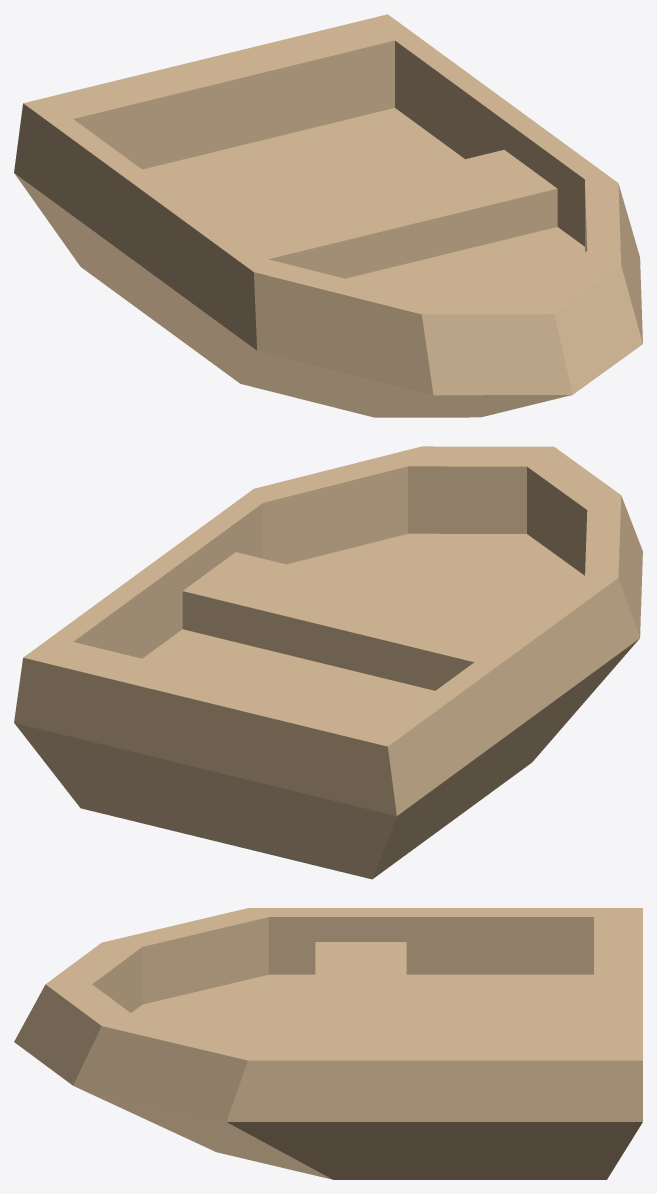
File: boat_watercraft_pack_028.glb
3 renders of one model, top to bottom at view 1: azimuth 30°, elevation 25°; view 2: azimuth 150°, elevation 25°; view 3: azimuth 270°, elevation 25°, orthographic. The views are drawn at different scales.
Parts seen in each view (by area): view 1: Mesh1 Group1 Model; view 2: Mesh1 Group1 Model; view 3: Mesh1 Group1 Model.
Boxes of the visible parts, left/top/right/bottom form: Mesh1 Group1 Model: left=14, top=14, right=642, bottom=417; Mesh1 Group1 Model: left=14, top=446, right=642, bottom=879; Mesh1 Group1 Model: left=14, top=908, right=642, bottom=1179.
Bounding box in the file's own units: 1.78 × 0.7 × 2.97.
